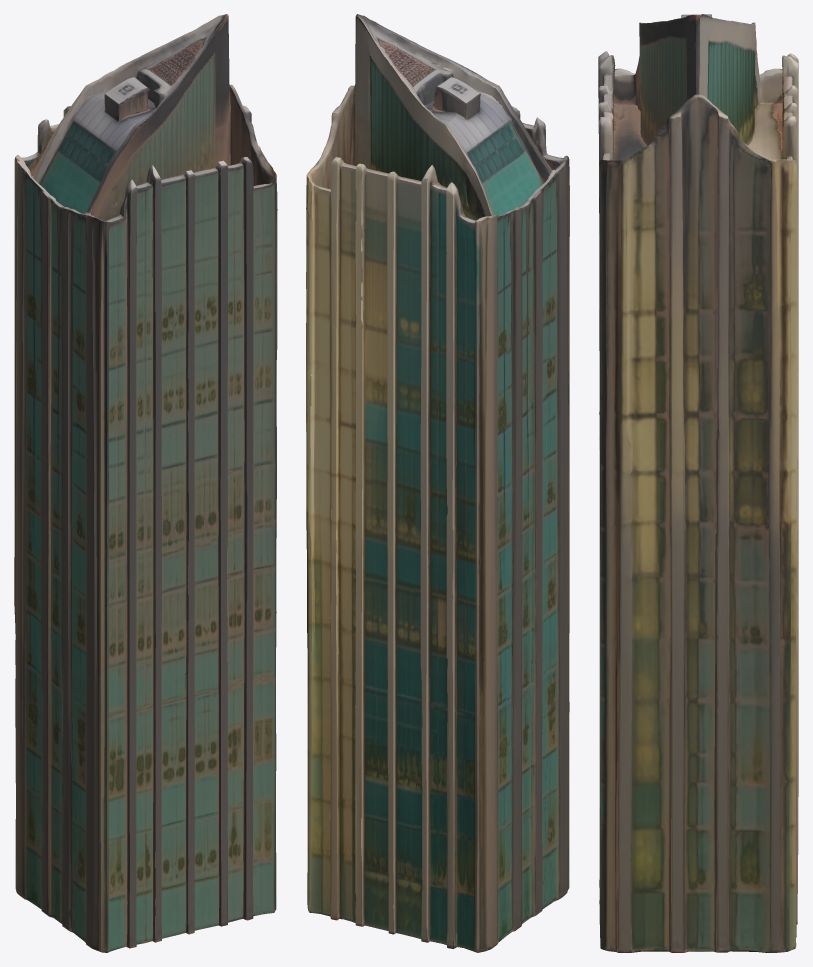
Rendered from r3_glass_setback_b.glb.
The picture shows the model from 3 angles, left to right: view 1: azimuth 30°, elevation 25°; view 2: azimuth 150°, elevation 25°; view 3: azimuth 270°, elevation 25°; orthographic projection. The views are drawn at different scales.
Parts seen in each view (by area): view 1: geometry_0; view 2: geometry_0; view 3: geometry_0.
Boxes of the visible parts, box(x1,y1,x2,y2) form: geometry_0: box(14, 14, 277, 952); geometry_0: box(306, 14, 569, 952); geometry_0: box(598, 14, 798, 952).
Bounding box in the file's own units: 40 × 180 × 35.
1 material, 1 textured.
